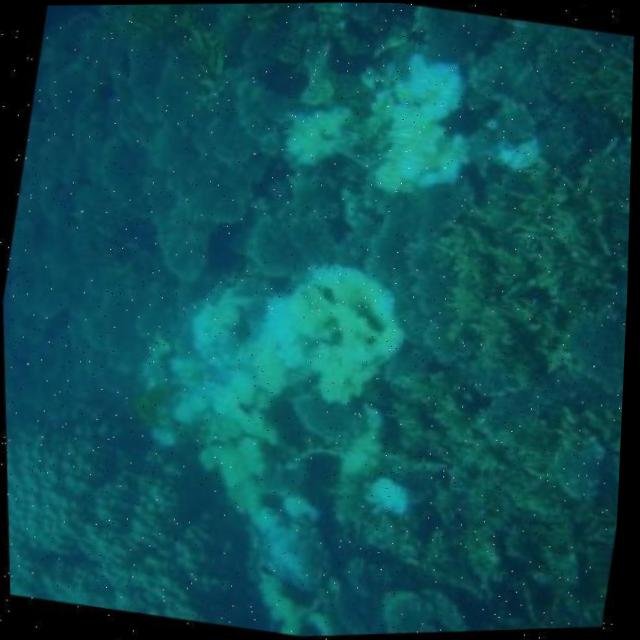Bleached Coral: (86, 225, 459, 589), (239, 1, 539, 230)
